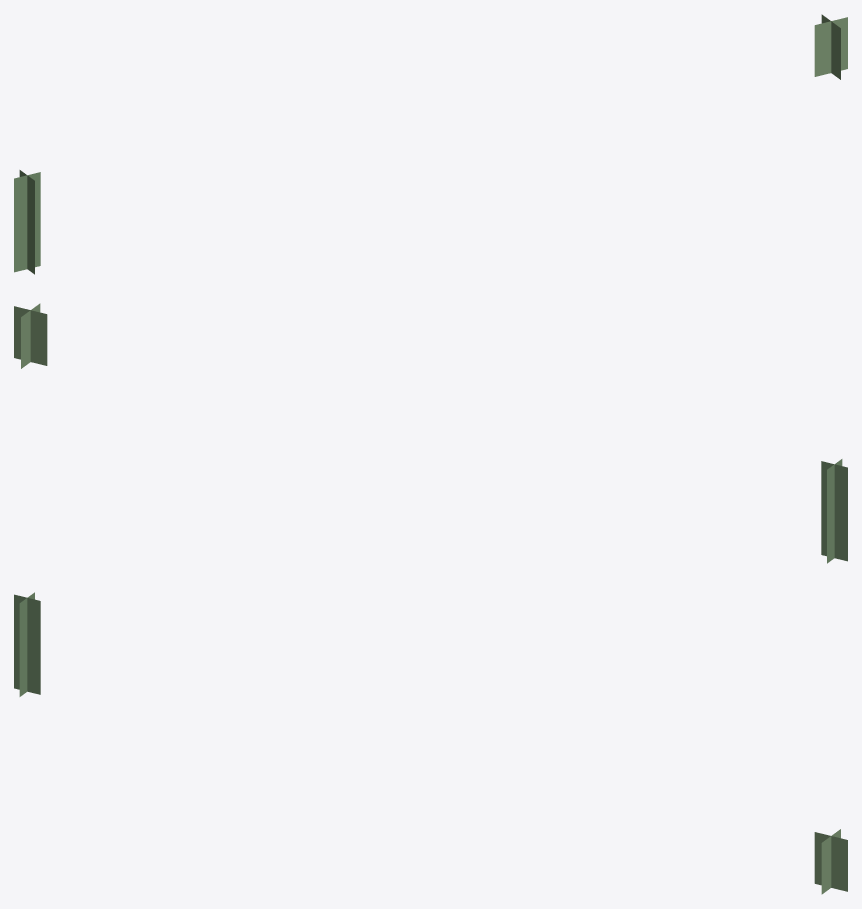
3 renders of one model, top to bottom at view 1: azimuth 30°, elevation 25°; view 2: azimuth 150°, elevation 25°; view 3: azimuth 330°, elevation 25°, orthographic.
Size of the model in its own units: 62.25 by 6.7 by 2.5.
